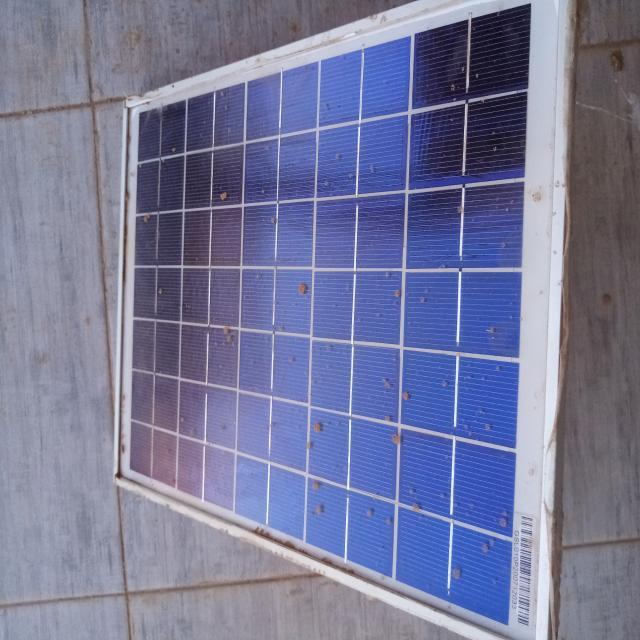faulty: (114, 0, 566, 640)
